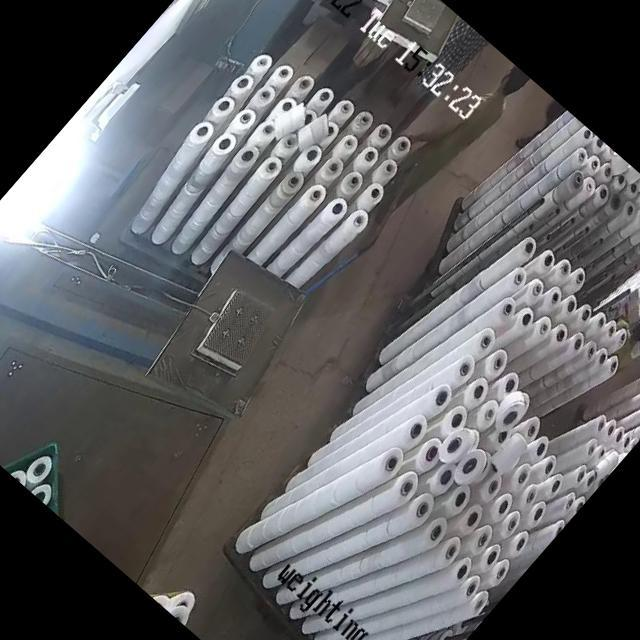person: (366, 58, 528, 238)
